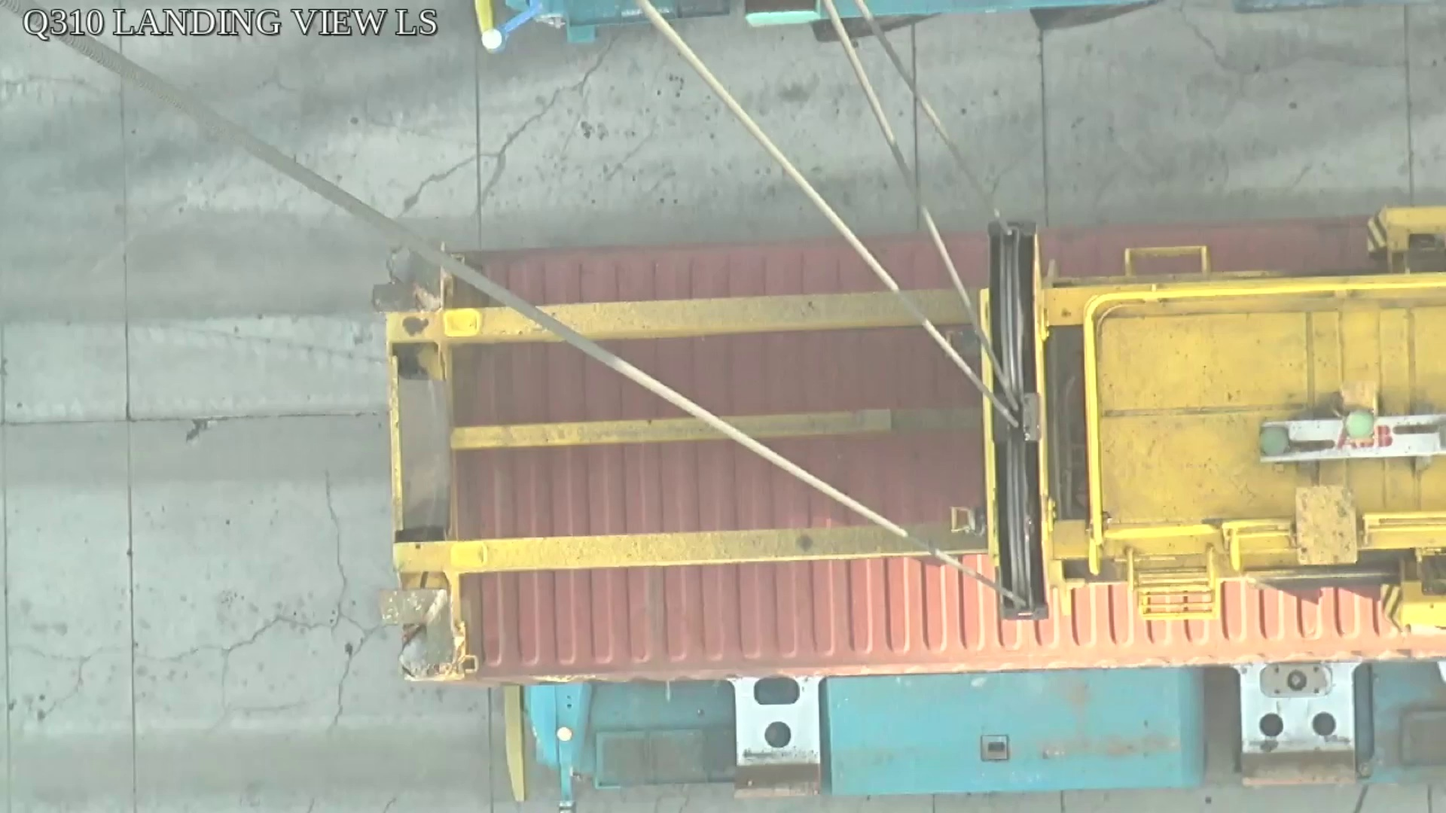aa: (979, 215, 1058, 626)
